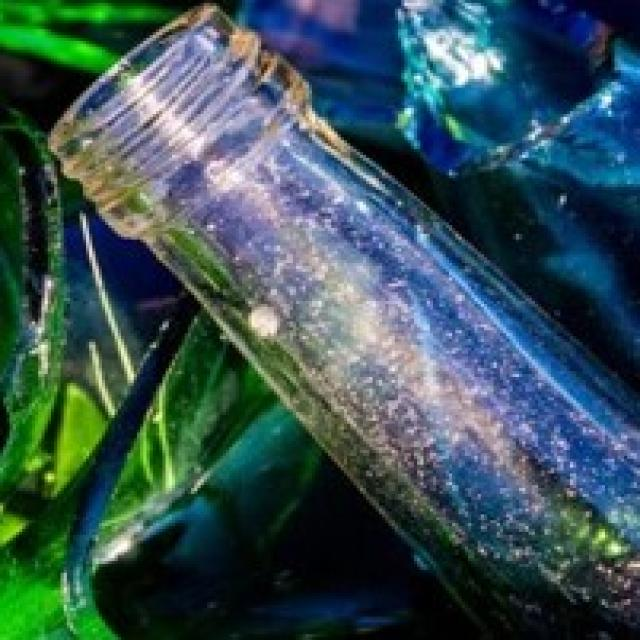electronic: (51, 6, 640, 637)
